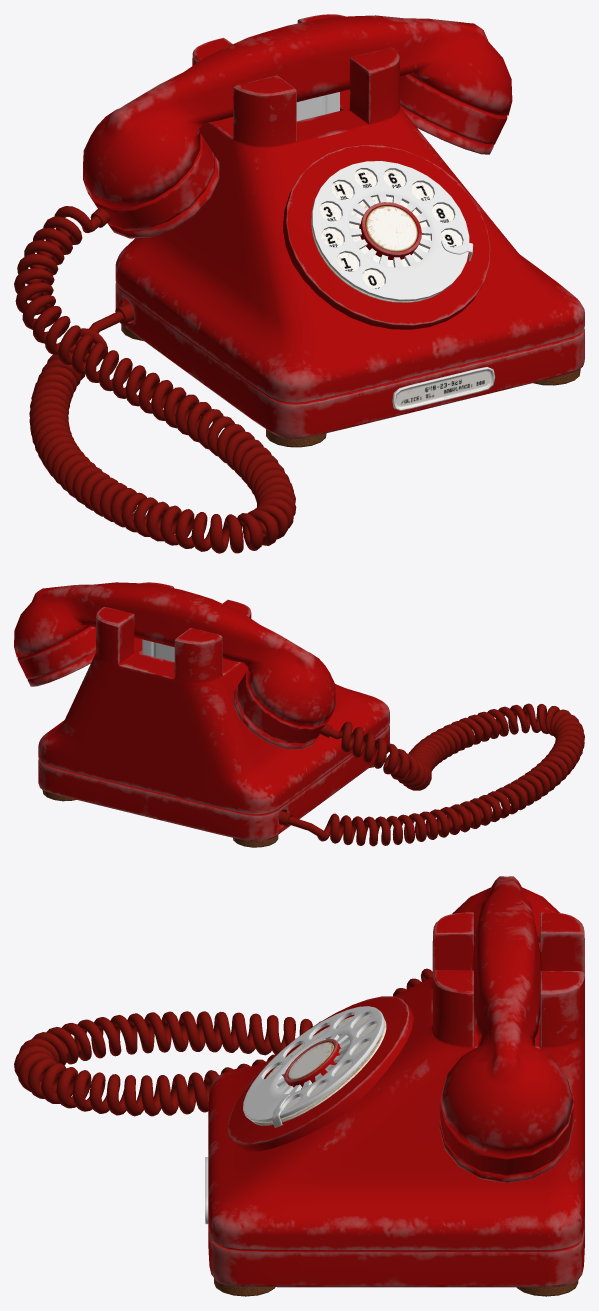
The model's file is Telephone-SF2.fbx.
3 views of the same model, one above another, from view 1: azimuth 30°, elevation 25°; view 2: azimuth 150°, elevation 25°; view 3: azimuth 270°, elevation 25° (orthographic). The views are drawn at different scales.
Visible parts, largest first — view 1: Phone Body.001, Phone.001, Cord.002, Dialer Holder.001, Dialer.002, Cylinder.001, Label.001, Dialer Holder.002, Feet.001, Phone Switch.001; view 2: Phone Body.001, Phone.001, Cord.002, Phone Switch.001, Feet.001; view 3: Phone Body.001, Phone.001, Cord.002, Dialer Holder.001, Dialer.002, Cylinder.001, Feet.001, Dialer Holder.002.
Boxes of the visible parts, bbox=[...] form: Phone Body.001: bbox=[115, 14, 584, 438]; Phone.001: bbox=[83, 15, 512, 238]; Cord.002: bbox=[14, 206, 296, 553]; Dialer Holder.001: bbox=[283, 145, 490, 329]; Dialer.002: bbox=[311, 161, 469, 301]; Cylinder.001: bbox=[311, 169, 462, 302]; Label.001: bbox=[392, 367, 495, 410]; Dialer Holder.002: bbox=[366, 206, 417, 251]; Feet.001: bbox=[121, 324, 580, 447]; Phone Switch.001: bbox=[296, 92, 339, 121]; Phone Body.001: bbox=[38, 582, 389, 841]; Phone.001: bbox=[14, 582, 335, 749]; Cord.002: bbox=[279, 703, 584, 846]; Phone Switch.001: bbox=[142, 639, 174, 661]; Feet.001: bbox=[42, 754, 386, 847]; Phone Body.001: bbox=[208, 912, 584, 1287]; Phone.001: bbox=[439, 876, 573, 1183]; Cord.002: bbox=[14, 968, 432, 1116]; Dialer Holder.001: bbox=[227, 996, 413, 1151]; Dialer.002: bbox=[243, 1006, 384, 1122]; Cylinder.001: bbox=[253, 1014, 386, 1125]; Feet.001: bbox=[214, 1278, 578, 1296]; Dialer Holder.002: bbox=[288, 1042, 333, 1079].
Size of the model in its own units: 735 by 356 by 614.
Materials: 5 (3 with a texture image).
